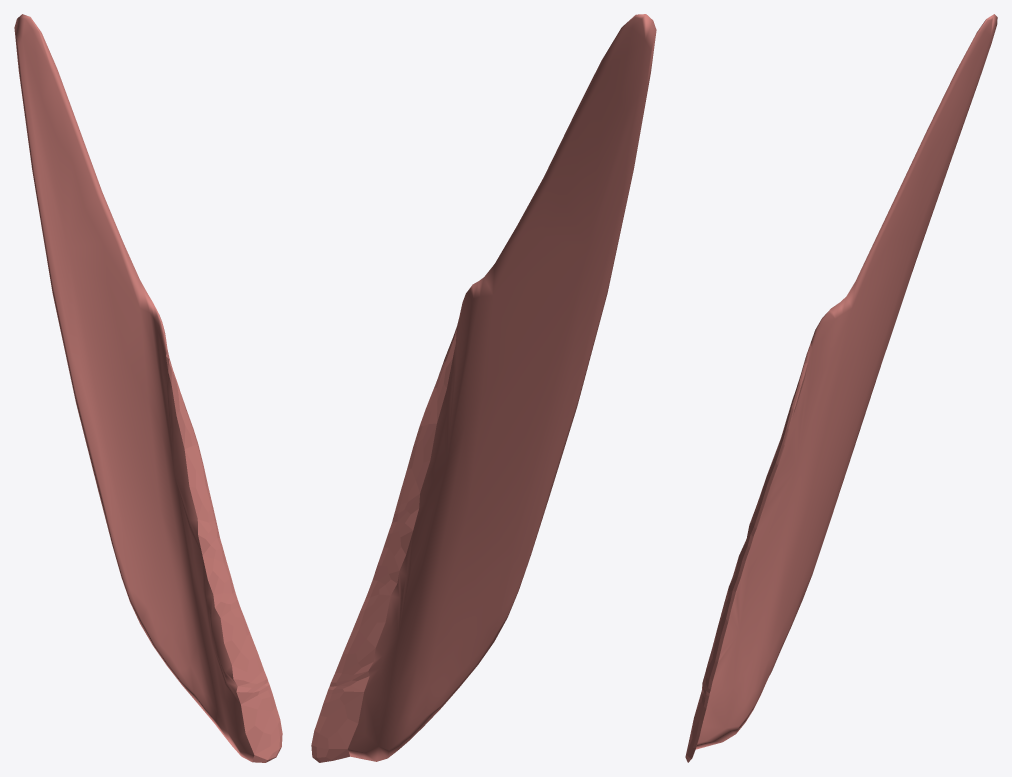
3 views of the same model, side by side, from view 1: azimuth 30°, elevation 25°; view 2: azimuth 210°, elevation 25°; view 3: azimuth 270°, elevation 25° (orthographic). The views are drawn at different scales.
Visible parts, largest first — view 1: ZA_10bde63448191365; view 2: ZA_10bde63448191365; view 3: ZA_10bde63448191365.
Boxes of the visible parts, box(x1,y1,x2,y2) form: ZA_10bde63448191365: box(14, 14, 282, 762); ZA_10bde63448191365: box(311, 14, 656, 762); ZA_10bde63448191365: box(685, 14, 997, 762).
Bounding box in the file's own units: 0.0157 × 0.0778 × 0.0316.
